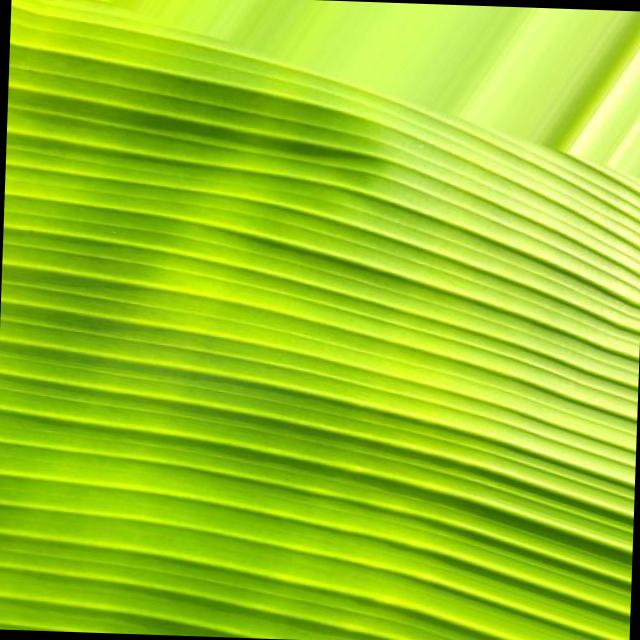Banana_Healthy: (109, 147, 536, 542)
